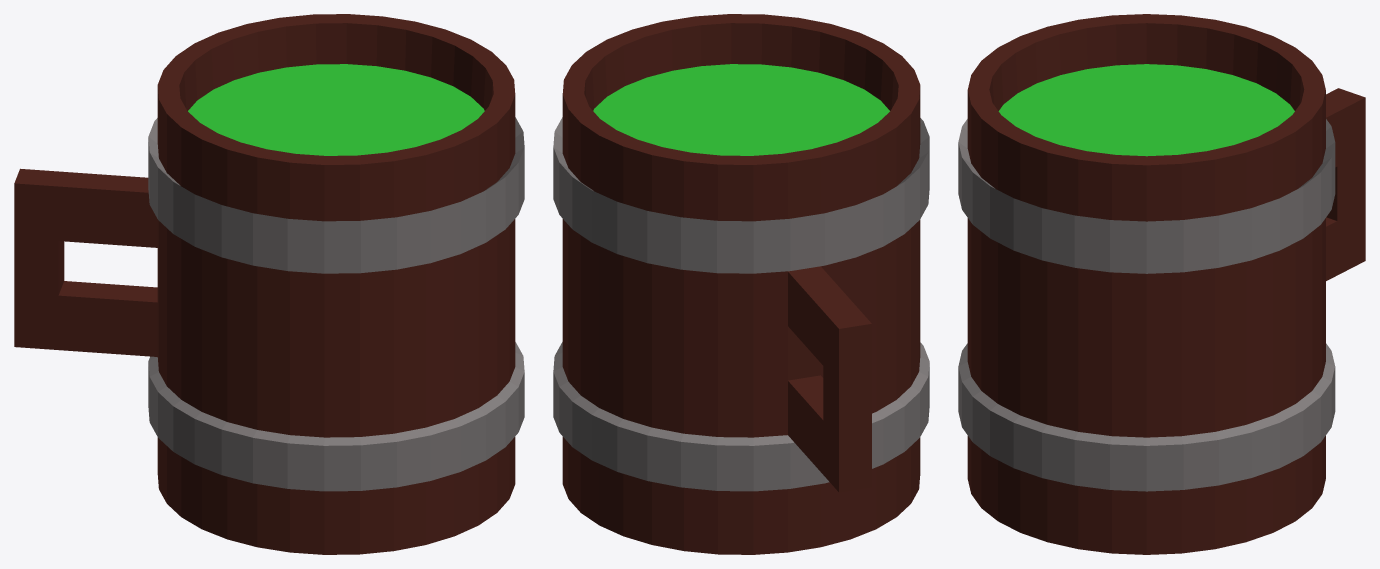
The model's file is glass.fbx.
3 renders of one model, left to right at view 1: azimuth 30°, elevation 25°; view 2: azimuth 150°, elevation 25°; view 3: azimuth 270°, elevation 25°, orthographic.
Visible parts, largest first — view 1: Cylinder, Cylinder.001, Cylinder.002; view 2: Cylinder, Cylinder.001, Cylinder.002; view 3: Cylinder, Cylinder.001, Cylinder.002.
Boxes of the visible parts, x1,y1,x2,y2 form: Cylinder: (14,14,515,554); Cylinder.001: (148,117,524,491); Cylinder.002: (188,64,484,155); Cylinder: (562,14,920,554); Cylinder.001: (553,117,929,491); Cylinder.002: (593,64,889,155); Cylinder: (967,14,1365,554); Cylinder.001: (958,119,1335,491); Cylinder.002: (998,64,1294,156).
Size of the model in its own units: 251 by 240 by 227.
